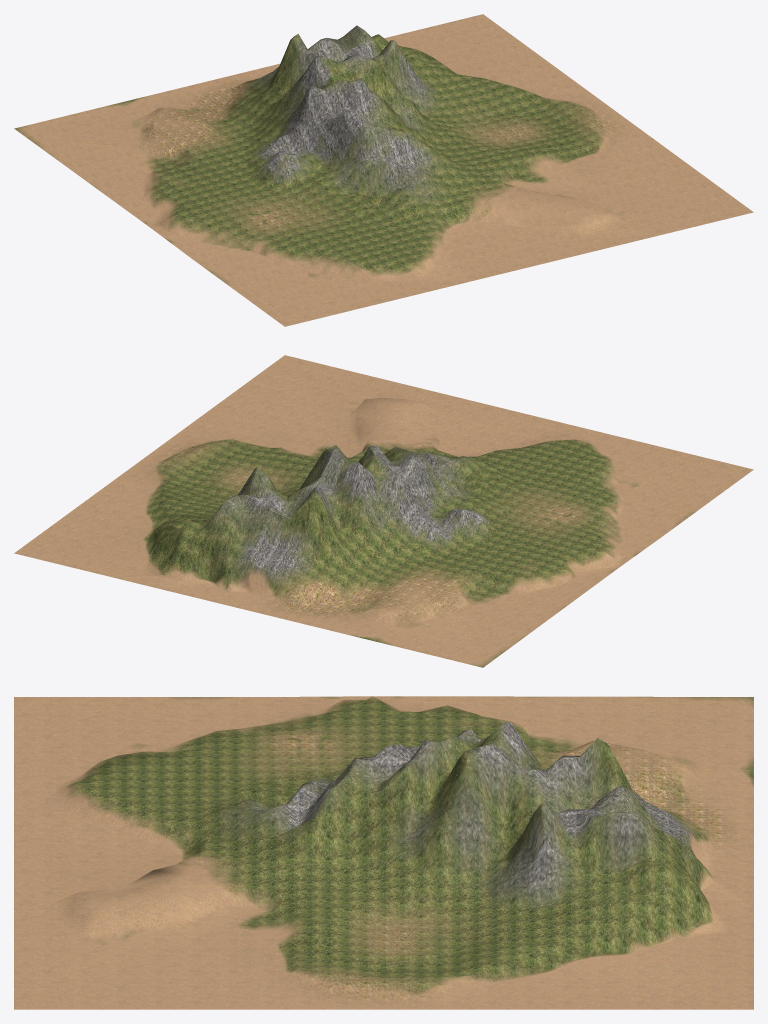
The picture shows the model from 3 angles, top to bottom: view 1: azimuth 30°, elevation 25°; view 2: azimuth 150°, elevation 25°; view 3: azimuth 270°, elevation 25°; orthographic projection. The views are drawn at different scales.
Visible parts, largest first — view 1: Mesh; view 2: Mesh; view 3: Mesh.
Boxes of the visible parts, left/top/right/bottom form: Mesh: left=14, top=14, right=753, bottom=326; Mesh: left=14, top=355, right=753, bottom=667; Mesh: left=14, top=696, right=753, bottom=1009.
Size of the model in its own units: 500 by 88.65 by 500.
Materials: 1 (1 with a texture image).
